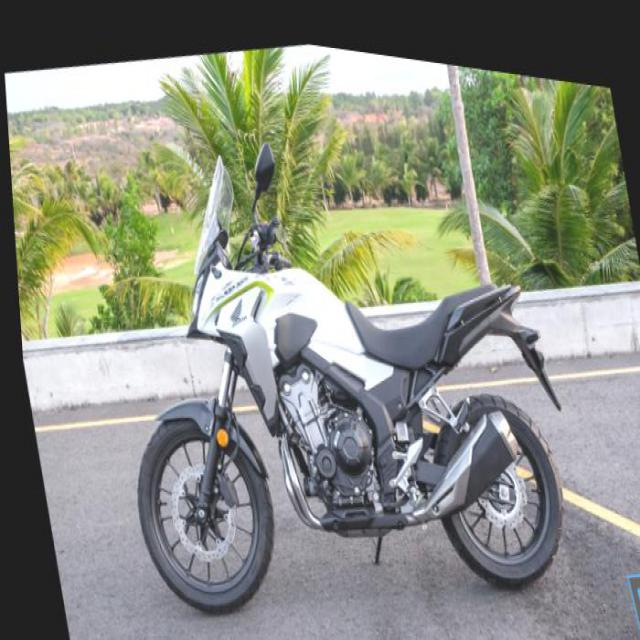CB500X: (72, 57, 590, 638)
